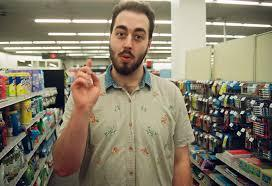Normal: (1, 0, 272, 186)
